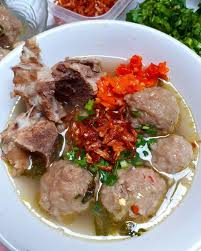bakso: (11, 42, 199, 231)
